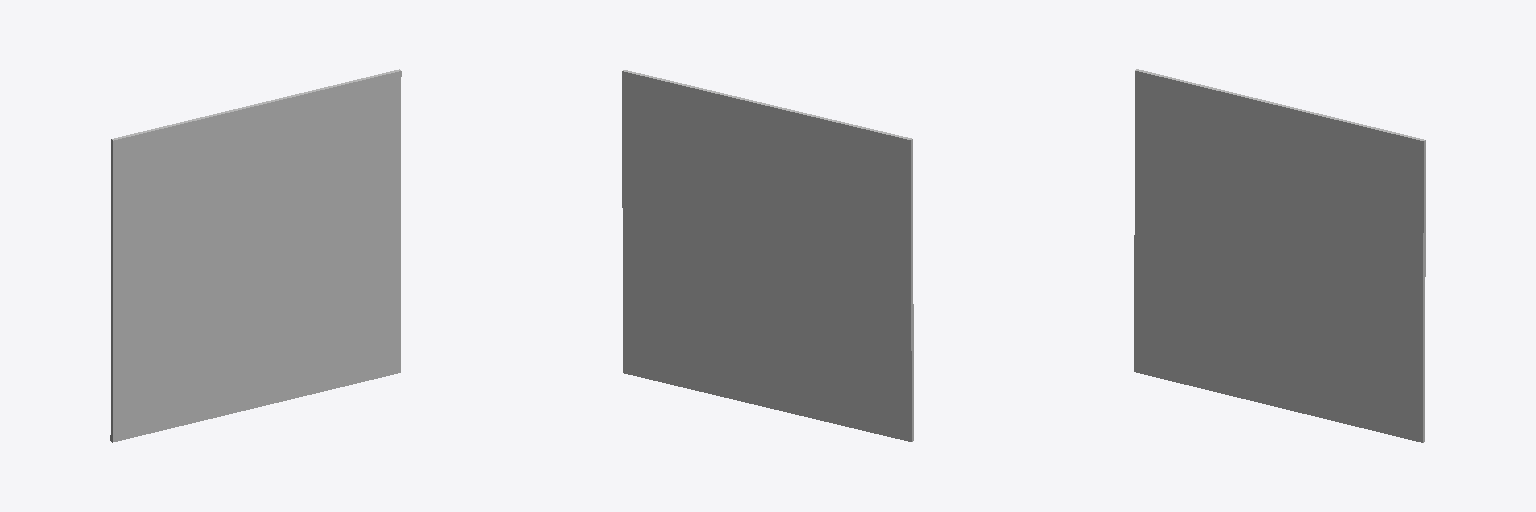
Rendered from pic.obj.
3 views of the same model, side by side, from view 1: azimuth 30°, elevation 25°; view 2: azimuth 150°, elevation 25°; view 3: azimuth 330°, elevation 25° (orthographic).
Parts seen in each view (by area): view 1: Plane.001_Plane.002; view 2: Plane.001_Plane.002; view 3: Plane.001_Plane.002.
Part boxes in pixels (left/top/right/bottom): Plane.001_Plane.002: left=110, top=69, right=401, bottom=442; Plane.001_Plane.002: left=622, top=70, right=913, bottom=441; Plane.001_Plane.002: left=1134, top=69, right=1425, bottom=442.
Size of the model in its own units: 2.74 by 2.74 by 0.0409.